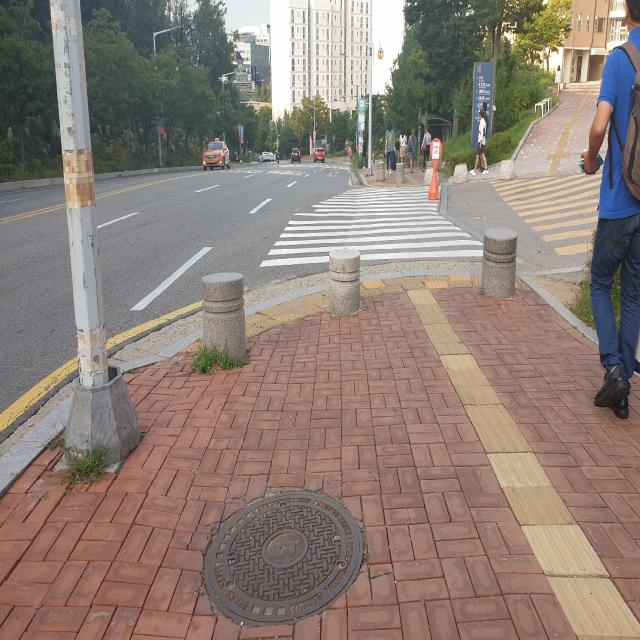횡단보도: (258, 184, 495, 271)
